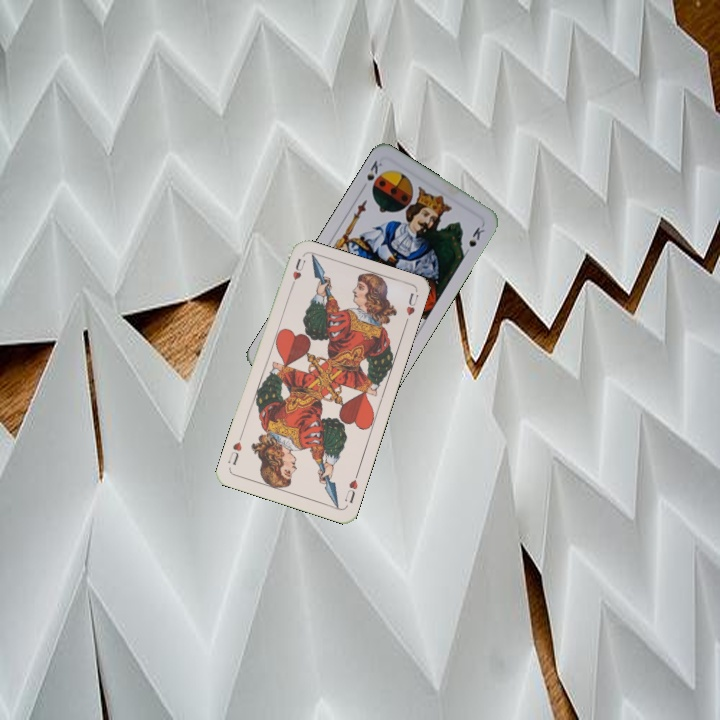HU: (286, 254, 308, 292), (341, 469, 361, 506)
SK: (363, 156, 385, 183)
